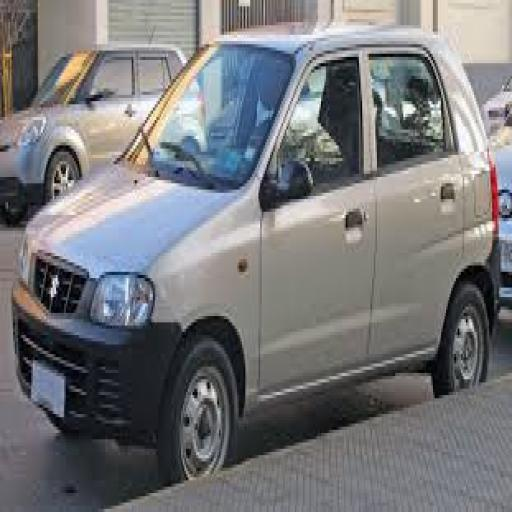License: (26, 356, 74, 420)
